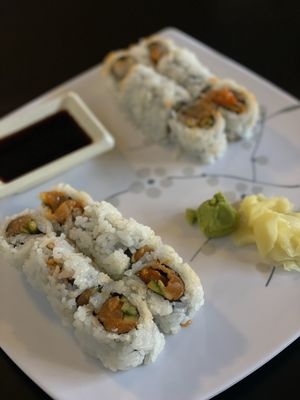curry: (0, 28, 300, 396)
sushi: (0, 183, 207, 372)
